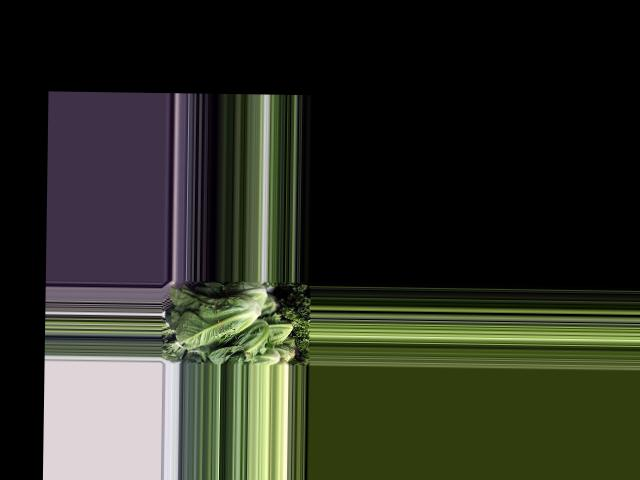lettuce: (206, 320, 272, 362)
